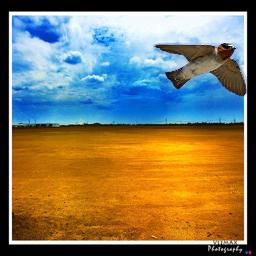Swallow: (153, 43, 247, 97)
